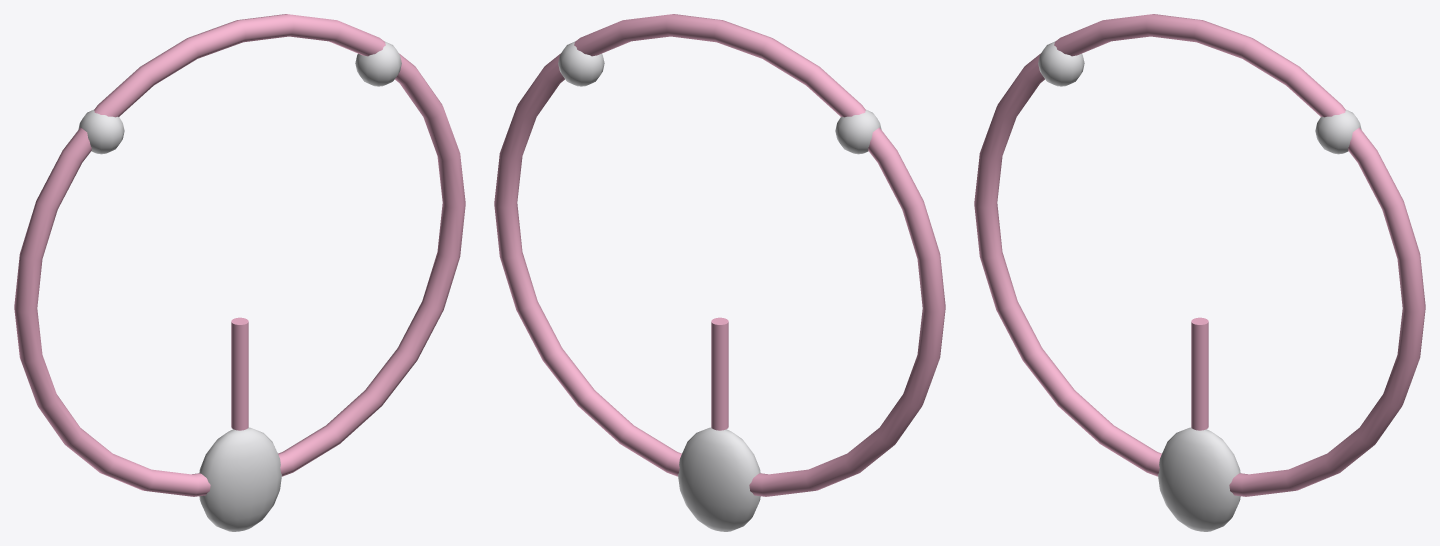
The model's file is VM-DAM-SH40579234.glb.
The picture shows the model from 3 angles, left to right: view 1: azimuth 30°, elevation 25°; view 2: azimuth 150°, elevation 25°; view 3: azimuth 330°, elevation 25°; orthographic projection.
Parts seen in each view (by area): view 1: Collar Inicial U Acero Rosado; view 2: Collar Inicial U Acero Rosado; view 3: Collar Inicial U Acero Rosado.
Boxes of the visible parts, x1,y1,x2,y2 form: Collar Inicial U Acero Rosado: [14, 14, 465, 531]; Collar Inicial U Acero Rosado: [494, 14, 945, 531]; Collar Inicial U Acero Rosado: [974, 14, 1425, 531].
Size of the model in its own units: 0.1816 by 0.1971 by 0.018.
